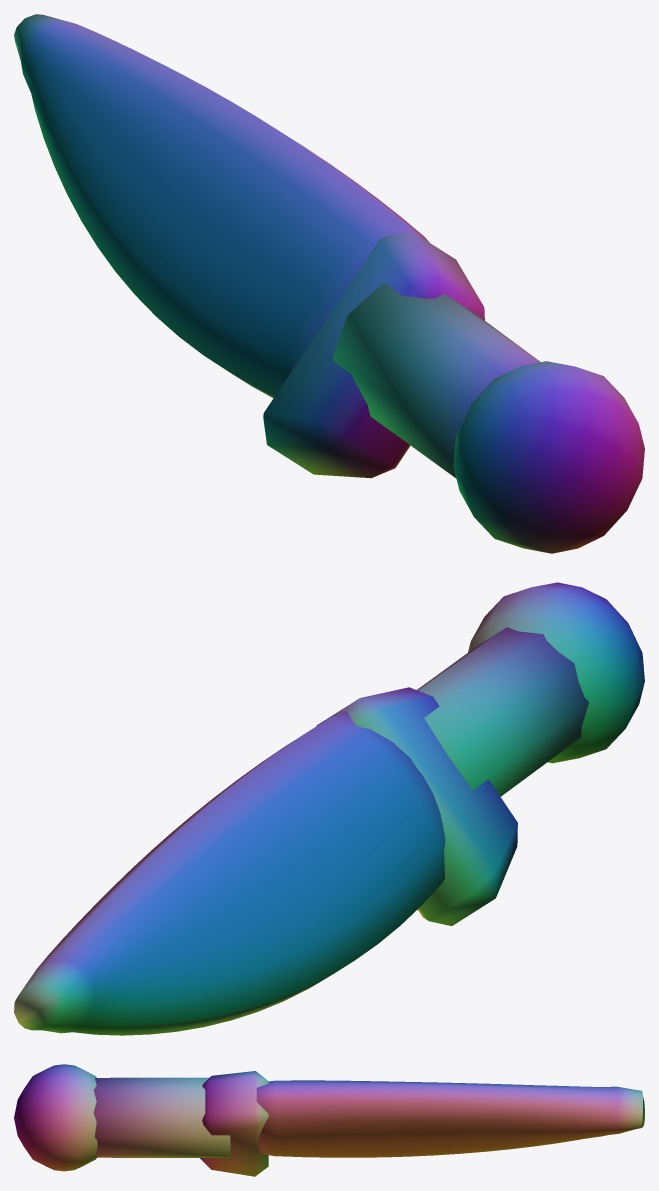
Rendered from SM_Hero_Rogue_Dagger_L.fbx.
3 renders of one model, top to bottom at view 1: azimuth 30°, elevation 25°; view 2: azimuth 150°, elevation 25°; view 3: azimuth 270°, elevation 25°, orthographic. The views are drawn at different scales.
Visible parts, largest first — view 1: SM_Hero_Rogue_Dagger_L; view 2: SM_Hero_Rogue_Dagger_L; view 3: SM_Hero_Rogue_Dagger_L.
Part boxes in pixels (bbox=[...]): SM_Hero_Rogue_Dagger_L: bbox=[14, 14, 644, 553]; SM_Hero_Rogue_Dagger_L: bbox=[14, 582, 644, 1035]; SM_Hero_Rogue_Dagger_L: bbox=[14, 1064, 644, 1176].
Bounding box in the file's own units: 0.101 × 0.1086 × 0.516.
